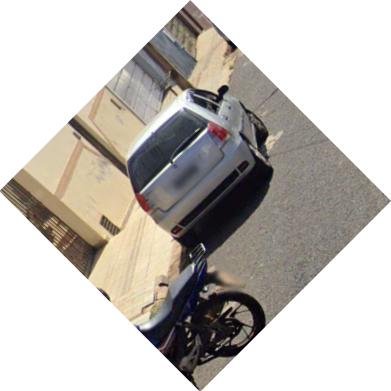car: (123, 83, 288, 252)
